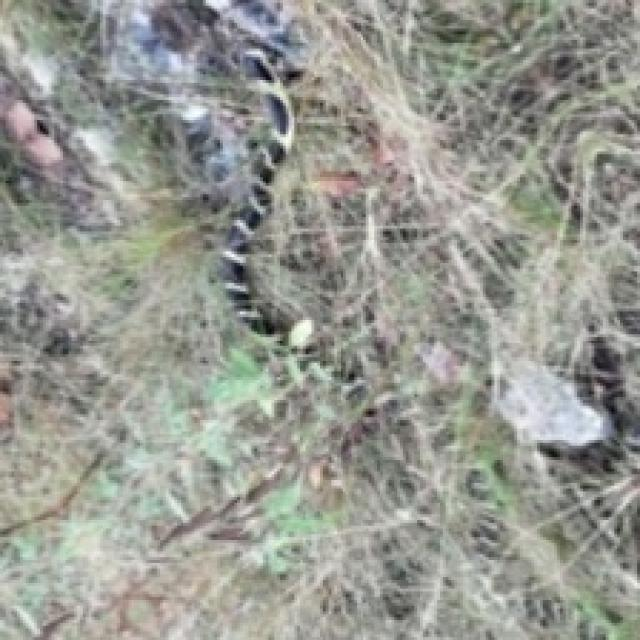king cobra: (220, 49, 291, 329)
